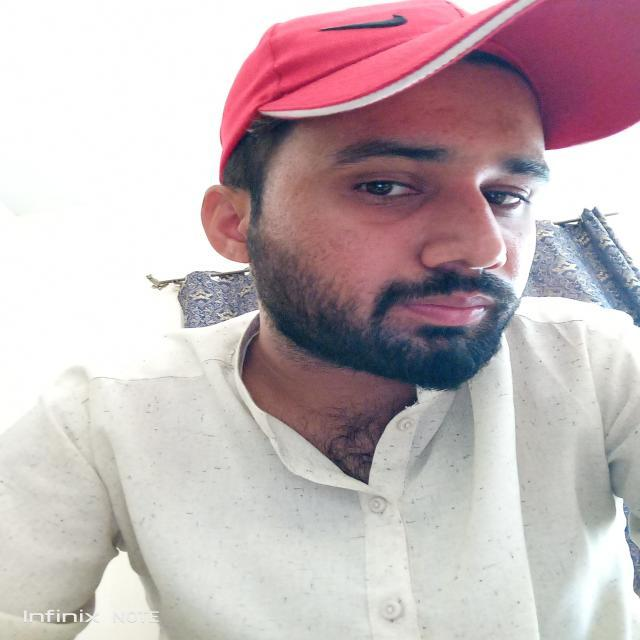pores: (412, 102, 531, 142), (301, 220, 392, 260), (278, 159, 316, 202), (268, 201, 306, 230)
